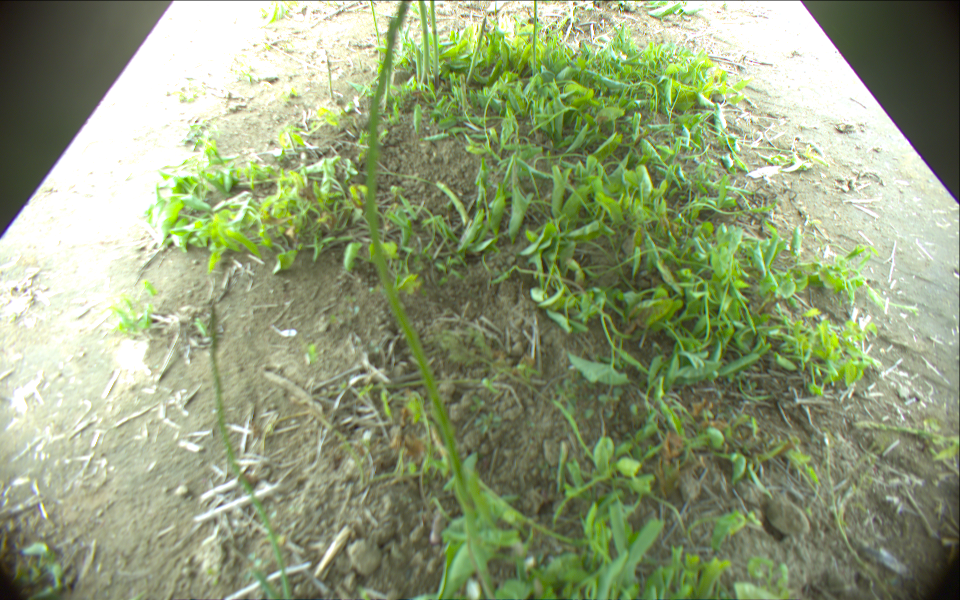aspa: (361, 1, 470, 511), (208, 305, 298, 600), (225, 547, 280, 600), (465, 16, 488, 83), (429, 1, 442, 87), (368, 1, 383, 64), (418, 1, 428, 85), (531, 1, 538, 74), (325, 53, 334, 100), (414, 47, 424, 84)
